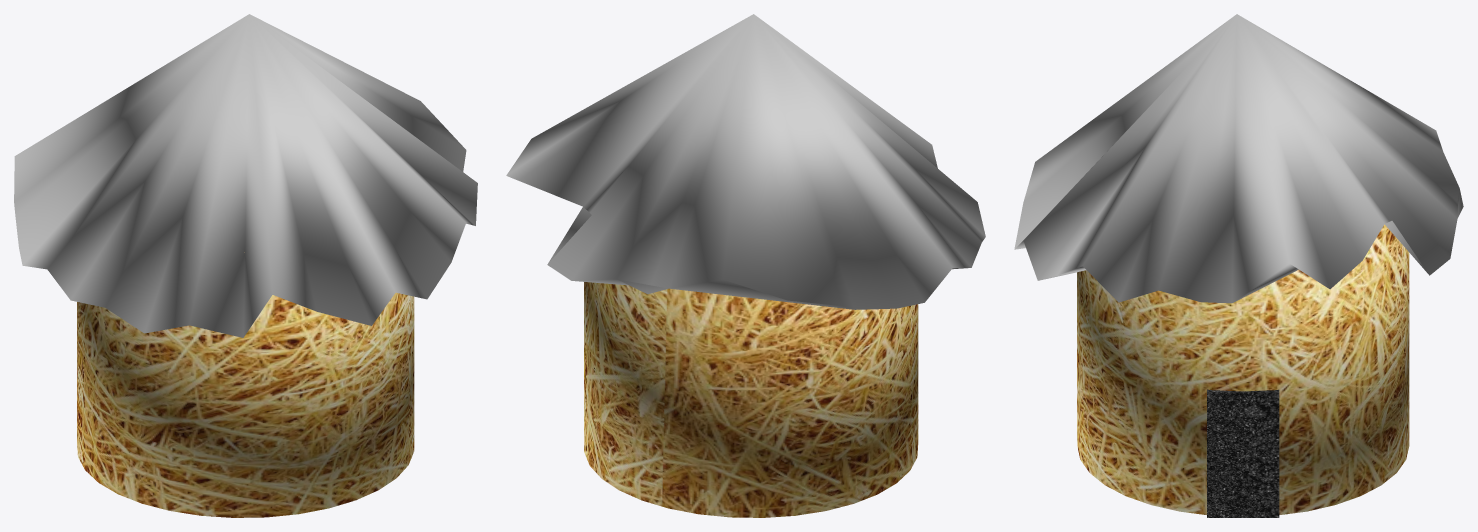
The model's file is ДОМ ОСТРОВ.fbx.
The picture shows the model from 3 angles, left to right: view 1: azimuth 30°, elevation 25°; view 2: azimuth 150°, elevation 25°; view 3: azimuth 270°, elevation 25°; orthographic projection.
Parts seen in each view (by area): view 1: Cone, Cylinder; view 2: Cone, Cylinder; view 3: Cone, Cylinder, Cube.
Part boxes in pixels (box(x1,y1,x2,y2)): Cone: box(14, 14, 477, 337); Cylinder: box(77, 252, 414, 517); Cone: box(506, 14, 985, 309); Cylinder: box(584, 282, 918, 517); Cone: box(1014, 14, 1463, 303); Cylinder: box(1077, 224, 1409, 514); Cube: box(1207, 389, 1279, 517).
Size of the model in its own units: 1322 by 1321 by 1245.
